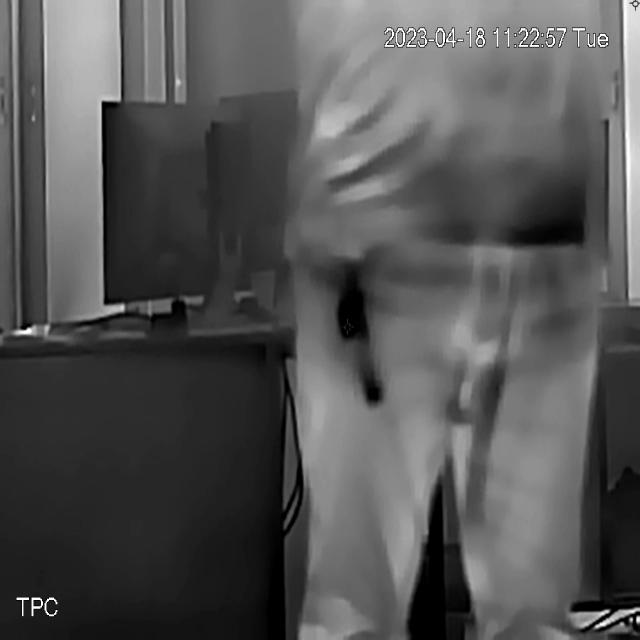Weapon: (296, 246, 402, 414)
